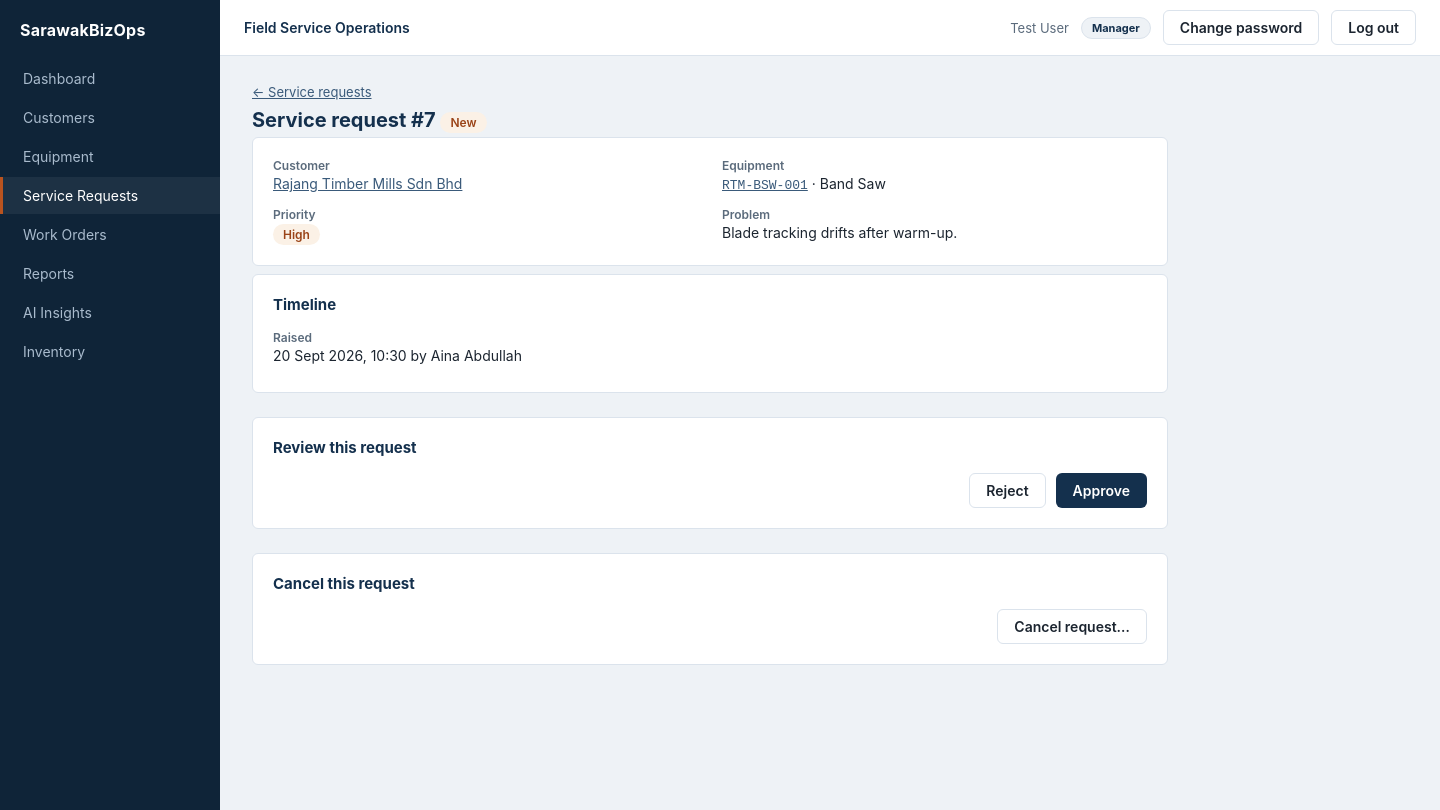
Reviewing a request › lets a Manager approve a New request and hides the buttons afterwards
The width and height of the screenshot is (1440, 810).
Click the button "Approve". click: (1101, 490)
box: top-left (1056, 473), bottom-right (1147, 508)
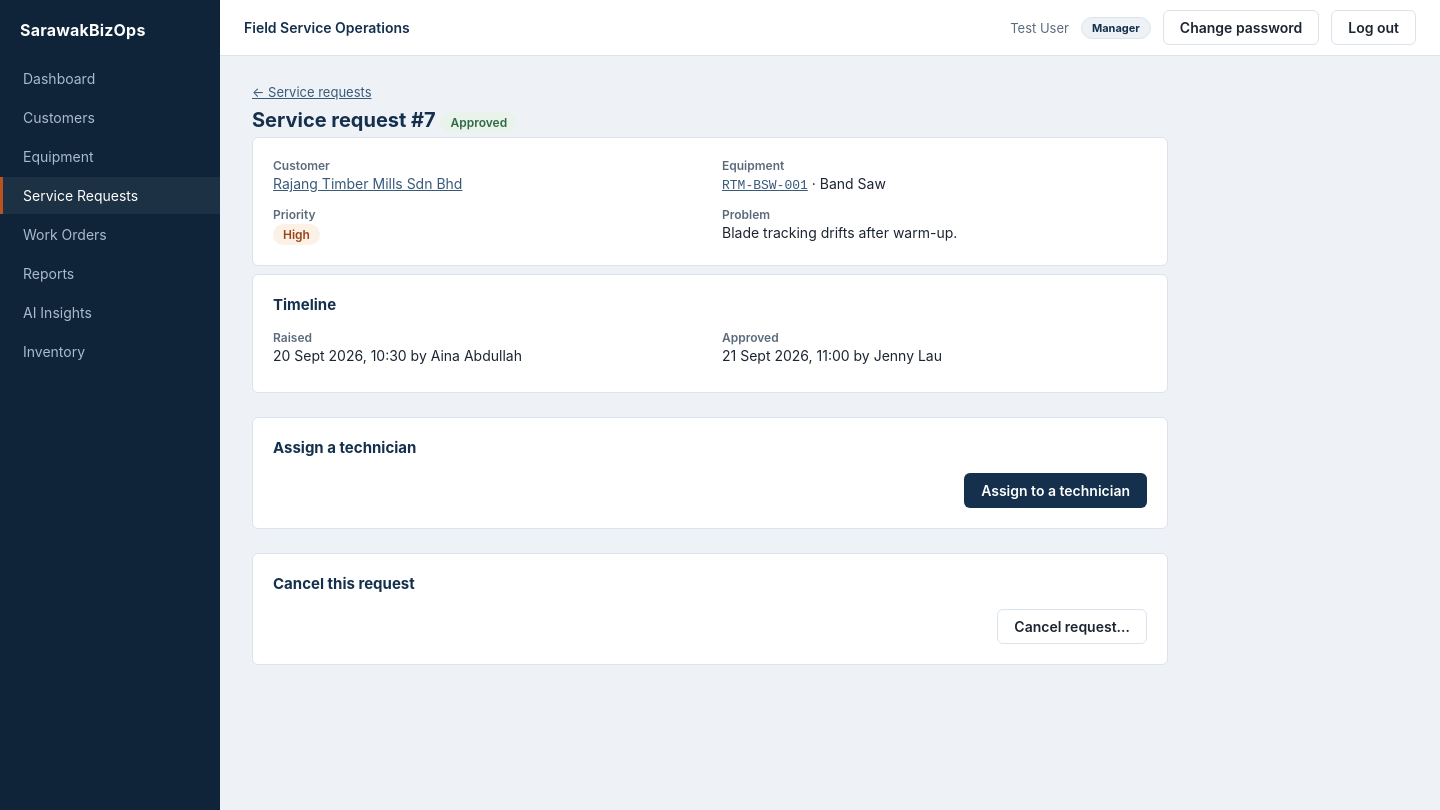
Now the text "21 Sept 2026, 11:00 by Jenny Lau" is shown, box top-left (722, 347), bottom-right (942, 364)
Now the button "Reject" is gone
